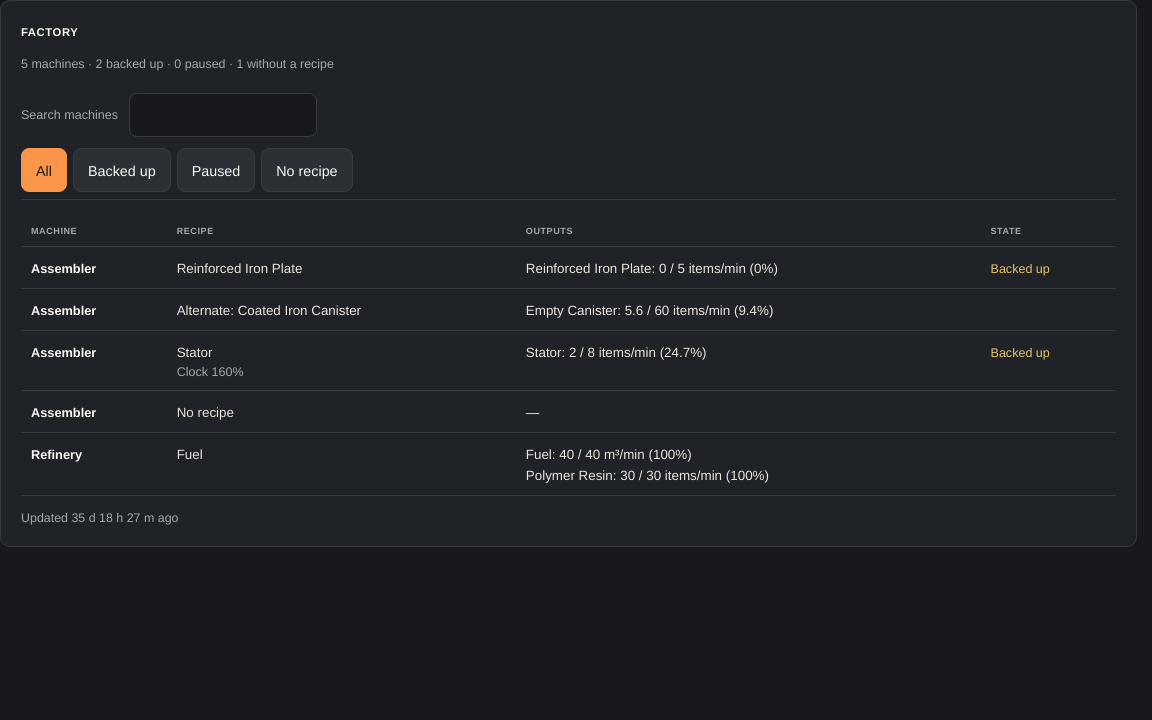
Test: FactoryPanel › searches by machine or recipe name, case-insensitively
The width and height of the screenshot is (1152, 720).
In the search field labelled "Search machines": x=223, y=114 left=129, top=92, right=317, bottom=136, type "refin"
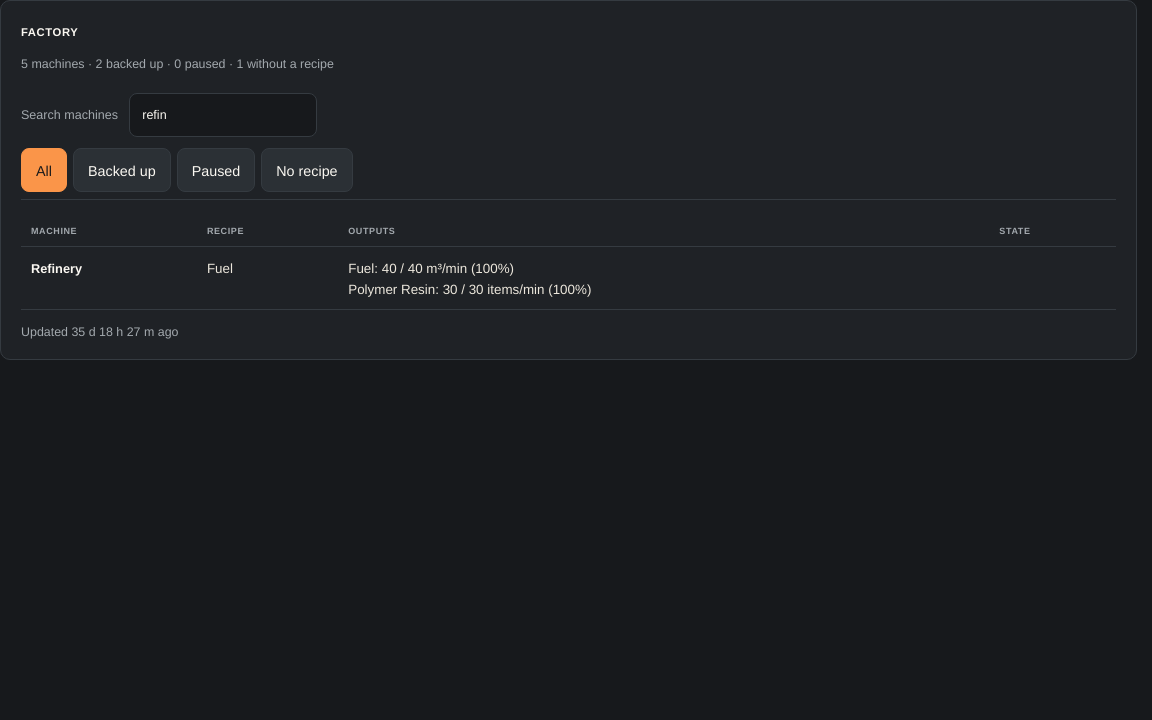
Replace the text in the search field labelled "Search machines" with "STATOR": x=223, y=114 left=129, top=92, right=317, bottom=136
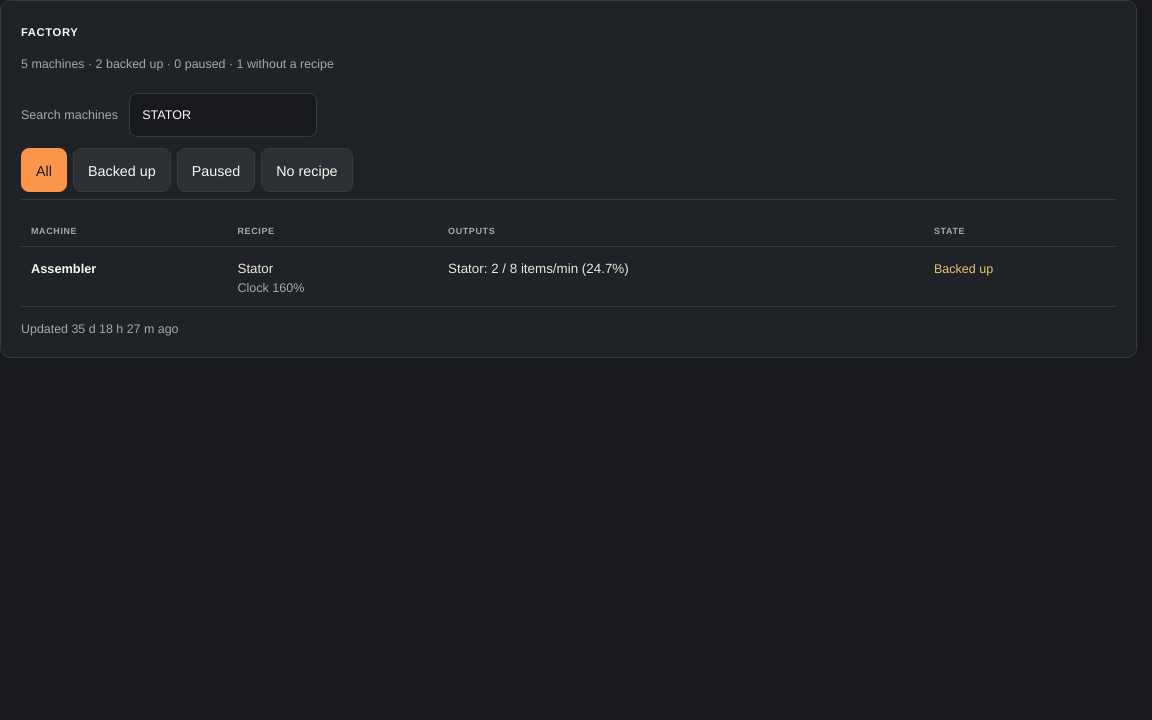
Replace the text in the search field labelled "Search machines" with "nothing like this": x=223, y=114 left=129, top=92, right=317, bottom=136
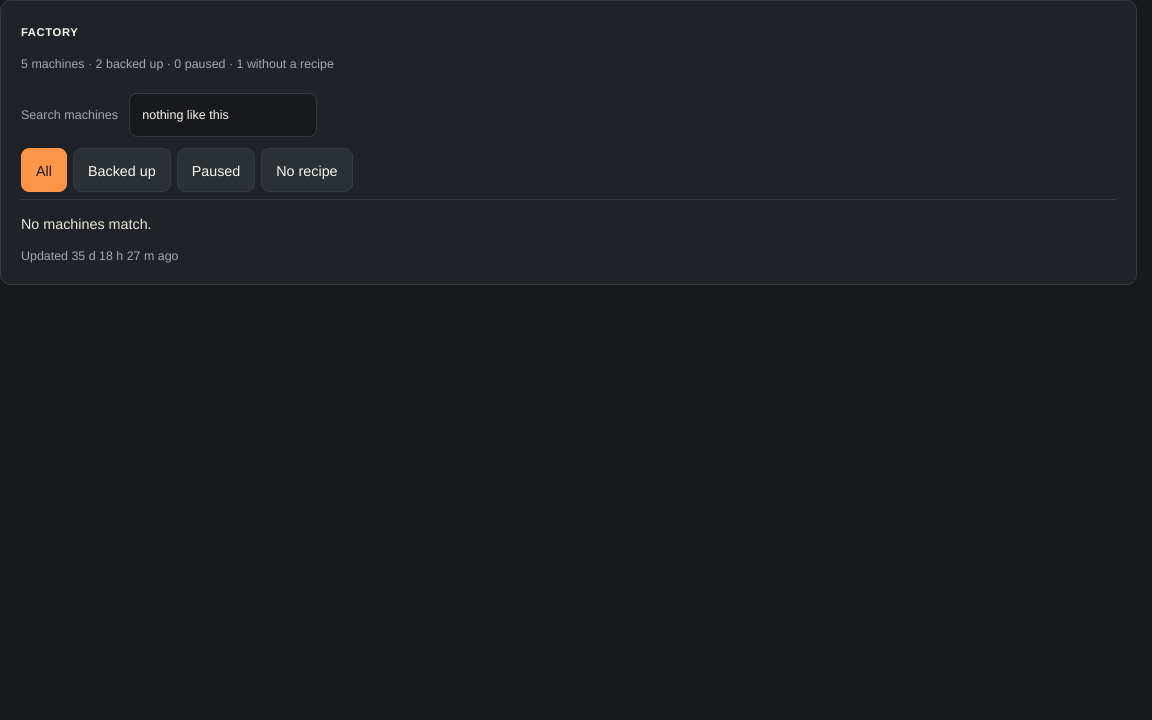
Check: the text "No machines match." is shown, box left=21, top=214, right=152, bottom=232
